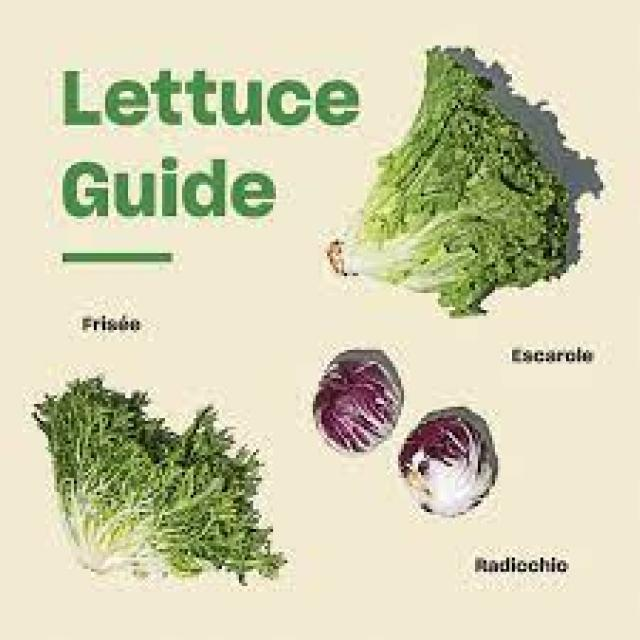Lettuce: (332, 41, 573, 322), (35, 368, 287, 588), (400, 407, 502, 523), (313, 350, 402, 455)
